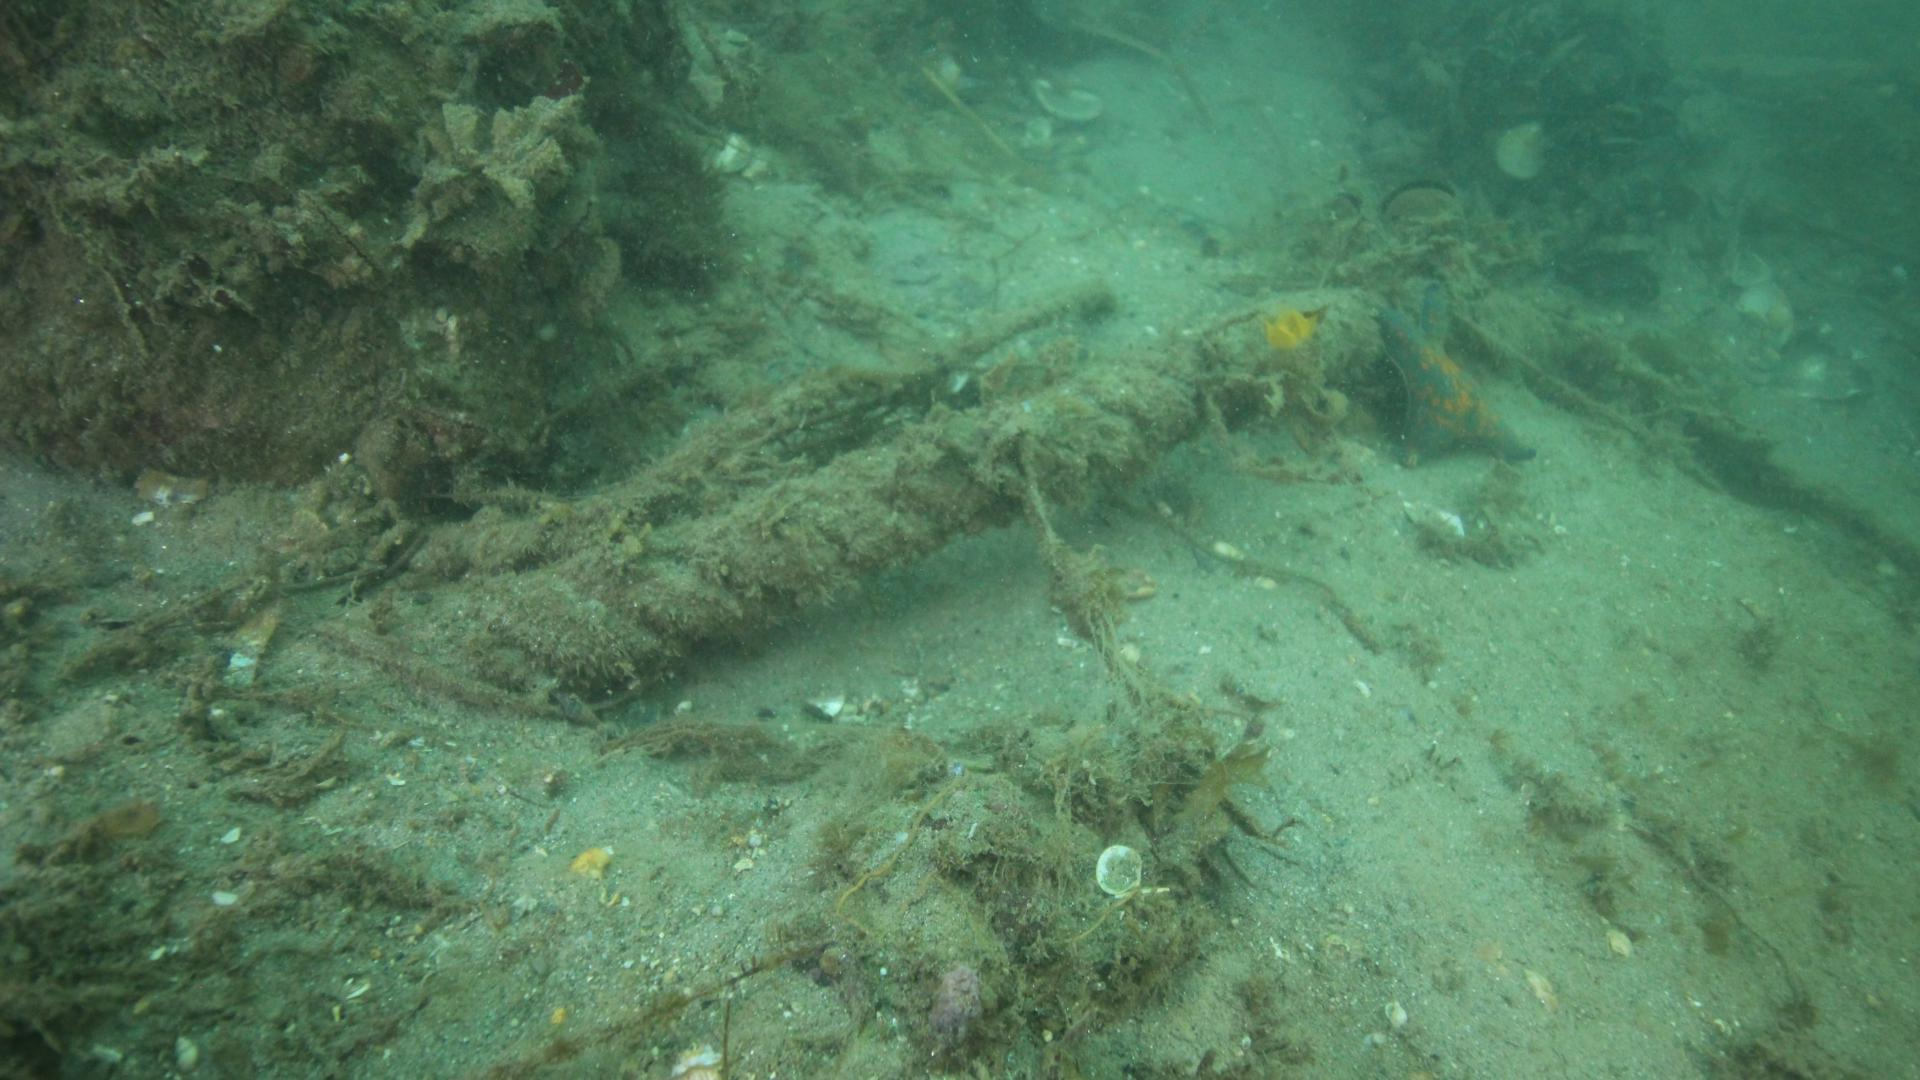rope: (375, 289, 1379, 702)
